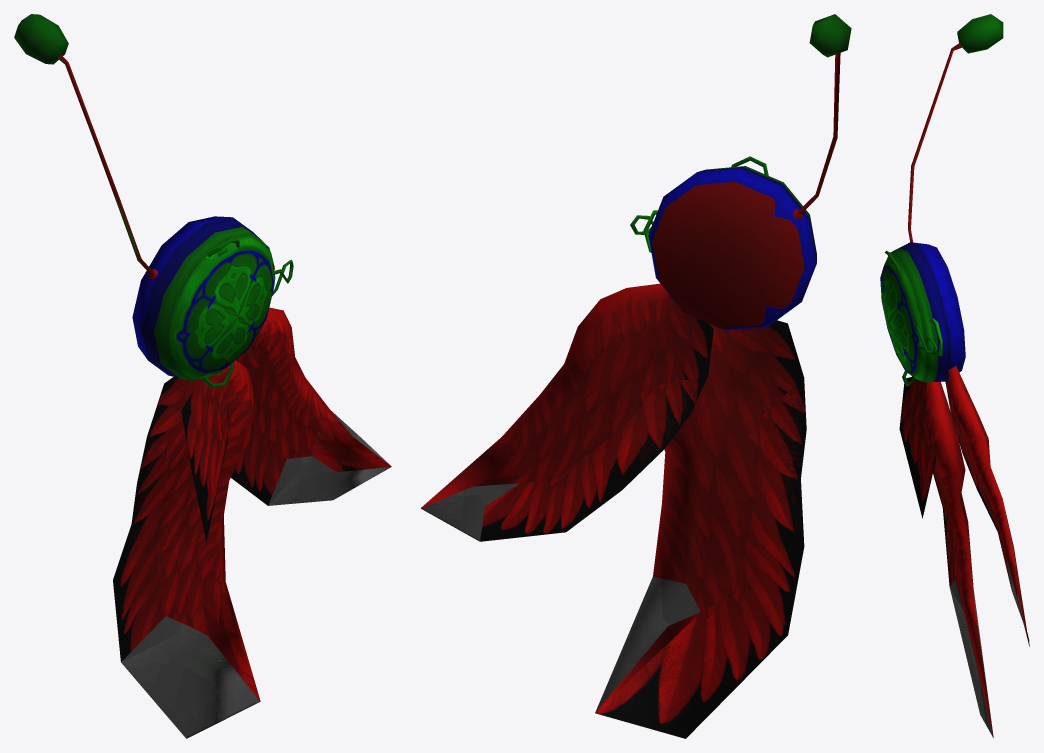
3 renders of one model, left to right at view 1: azimuth 30°, elevation 25°; view 2: azimuth 150°, elevation 25°; view 3: azimuth 270°, elevation 25°, orthographic. The views are drawn at different scales.
Parts seen in each view (by area): view 1: F1704, "Editable Poly"; view 2: F1704, "Editable Poly"; view 3: F1704, "Editable Poly".
Boxes of the visible parts, box(x1,y1,x2,y2) form: F1704: box(14, 14, 391, 738); "Editable Poly": box(121, 411, 390, 738); F1704: box(420, 14, 851, 738); "Editable Poly": box(421, 455, 700, 736); F1704: box(880, 14, 1029, 736); "Editable Poly": box(949, 561, 1029, 737).
Bounding box in the file's own units: 0.4659 × 0.8479 × 0.1796.
